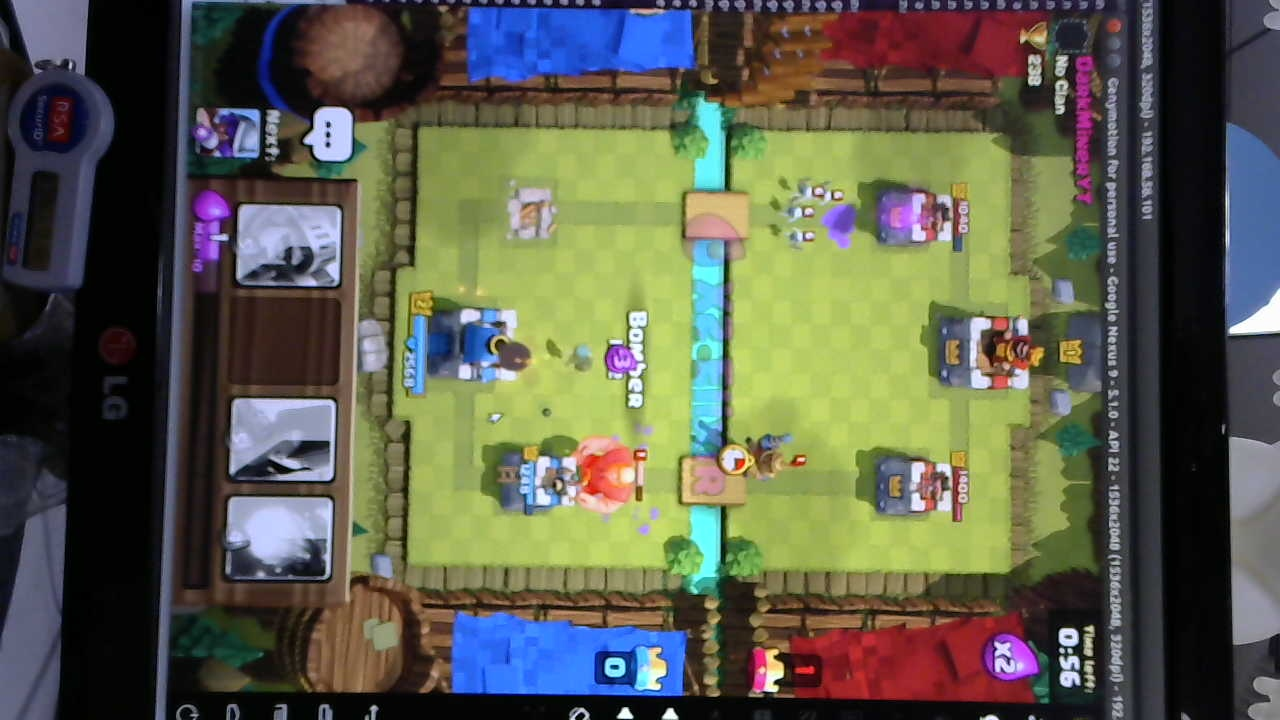arena: (497, 450, 577, 514)
darena: (504, 182, 560, 250)
earena: (874, 453, 954, 520), (874, 189, 961, 248)
eking: (935, 312, 1037, 393)
giant: (574, 432, 638, 515)
king: (424, 307, 526, 392)
prince: (737, 428, 795, 482)
skeleton: (780, 182, 843, 250)
